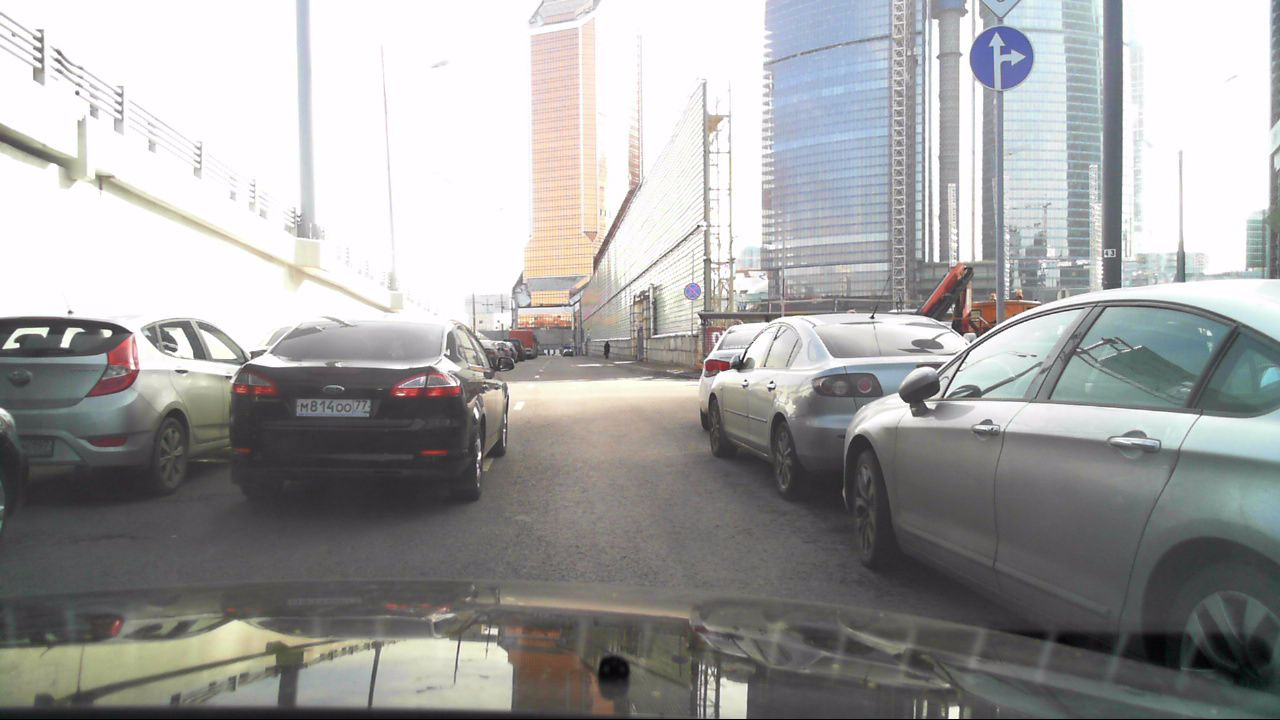No Parking: (683, 280, 700, 300)
